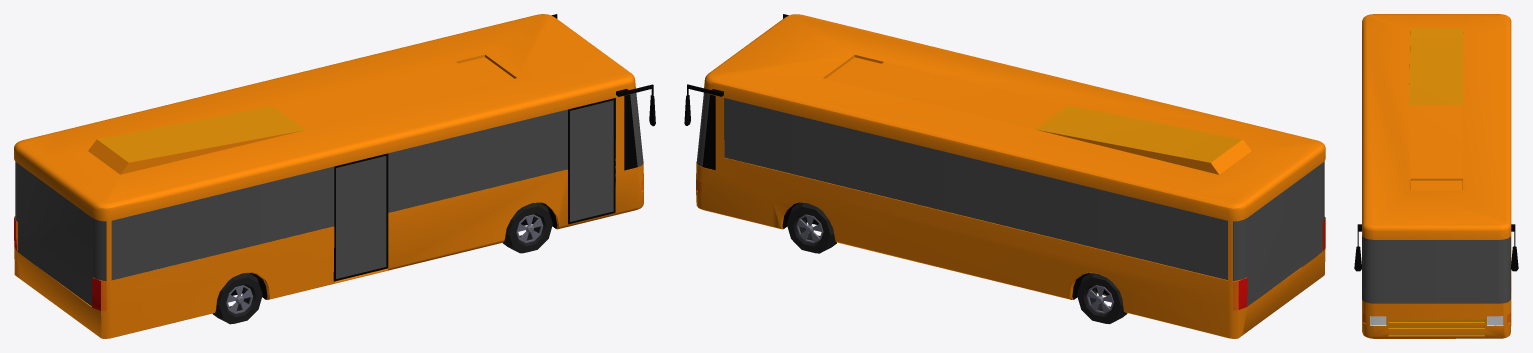
Rendered from bus model.fbx.
3 views of the same model, side by side, from view 1: azimuth 30°, elevation 25°; view 2: azimuth 150°, elevation 25°; view 3: azimuth 270°, elevation 25° (orthographic). The views are drawn at different scales.
Parts seen in each view (by area): view 1: body, glass, body.002, body.001, Taxi Back Wheels.001, Taxi Back Wheels.002; view 2: body, glass, Taxi Back Wheels, Taxi Back Wheels.002; view 3: body, glass, mirrors, mirrors.001.
Part boxes in pixels (left/top/right/bottom): body: left=14, top=14, right=643, bottom=338; glass: left=15, top=93, right=643, bottom=306; body.002: left=333, top=153, right=388, bottom=281; body.001: left=567, top=98, right=615, bottom=224; Taxi Back Wheels.001: left=503, top=202, right=552, bottom=253; Taxi Back Wheels.002: left=212, top=273, right=262, bottom=324; body: left=696, top=14, right=1325, bottom=338; glass: left=696, top=92, right=1324, bottom=306; Taxi Back Wheels: left=787, top=202, right=836, bottom=253; Taxi Back Wheels.002: left=1077, top=273, right=1127, bottom=324; body: left=1362, top=14, right=1511, bottom=338; glass: left=1362, top=236, right=1510, bottom=303; mirrors: left=1354, top=224, right=1362, bottom=271; mirrors.001: left=1510, top=224, right=1518, bottom=271.
Bounding box in the file's own units: 856 × 240 × 271.
